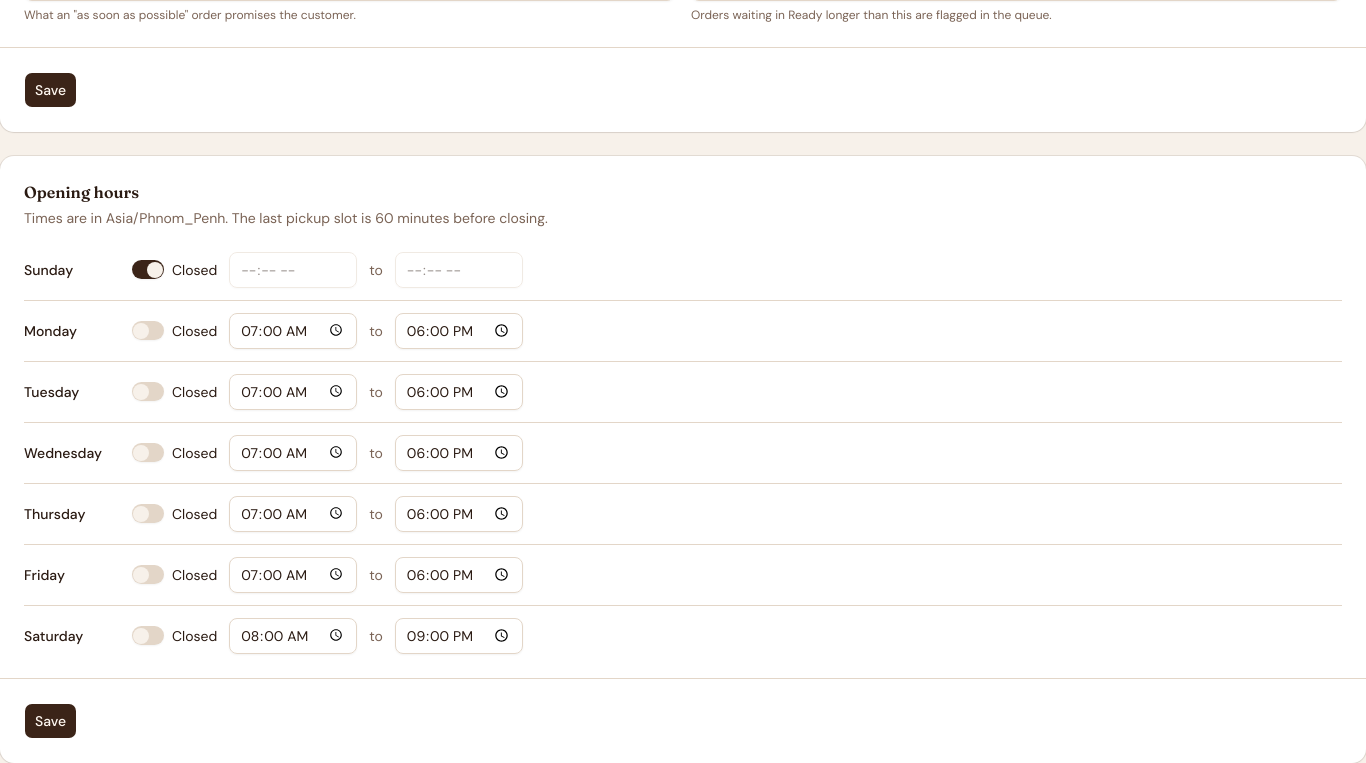
Test: StoreSettingsPage (FR-36, FR-37, FR-40, FR-41) › shows the server's bad_hours message
This screenshot has width=1366, height=763.
(page scrolled)
Click the button with aria-label "Save opening hours" at coordinates (51, 721), box [24,703,77,739]
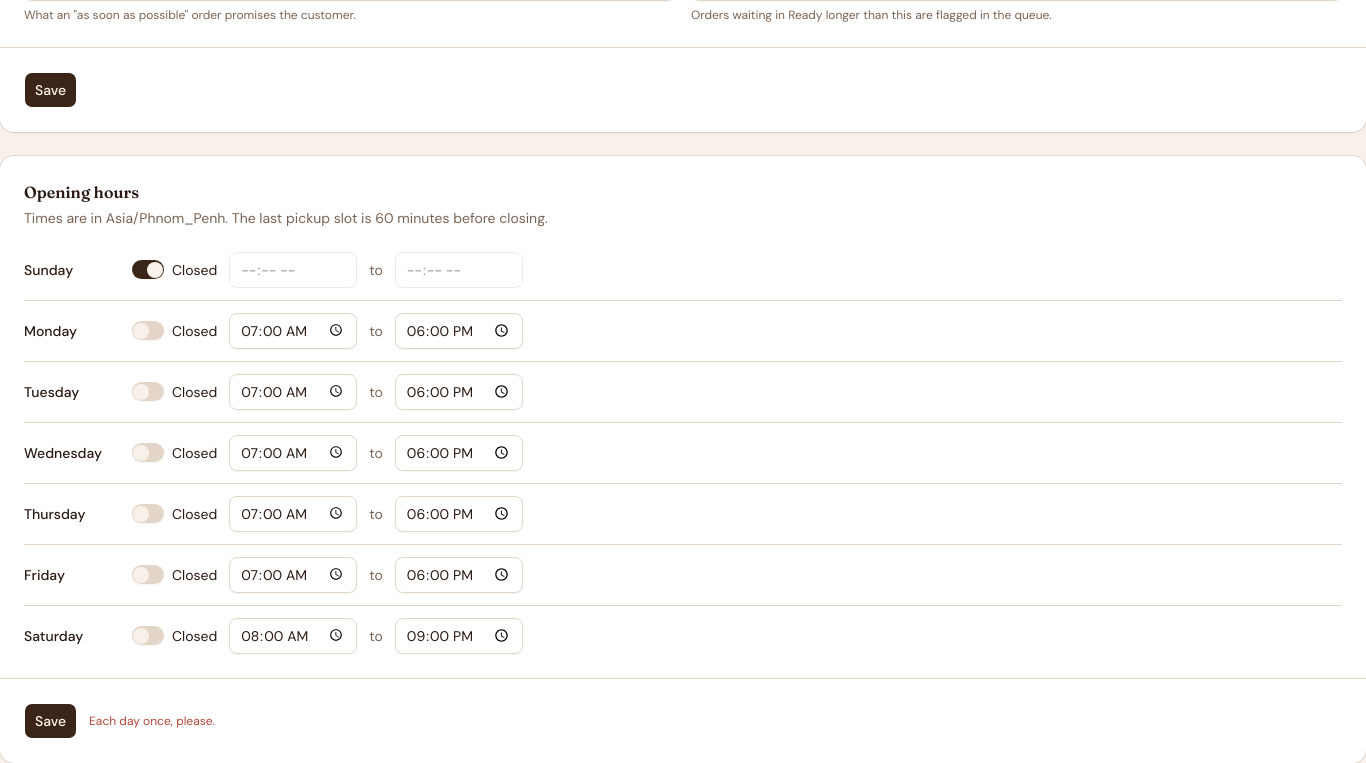
Result: the text "Each day once, please." is shown at [89,713,215,729]
